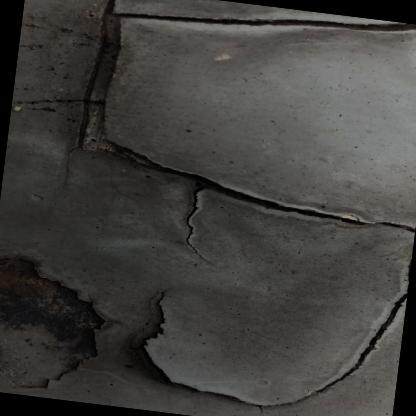Crack: (23, 0, 415, 246), (118, 202, 415, 415), (0, 230, 124, 405), (144, 167, 242, 272)
